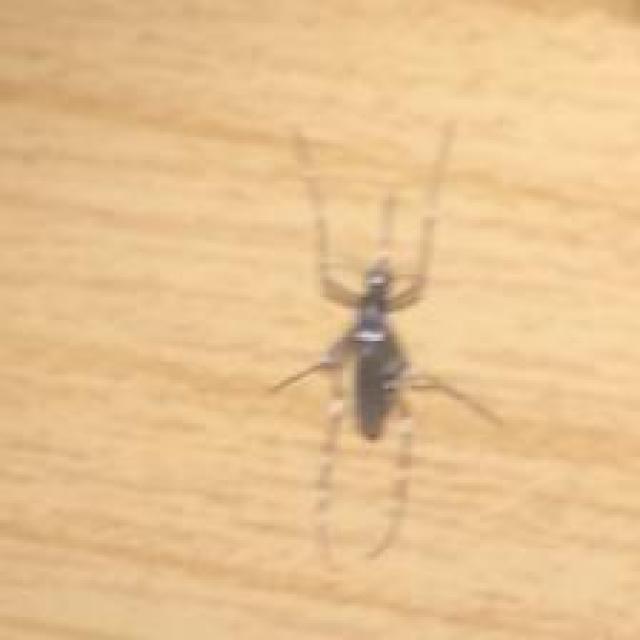Aedes albopictus: (266, 117, 506, 569)
